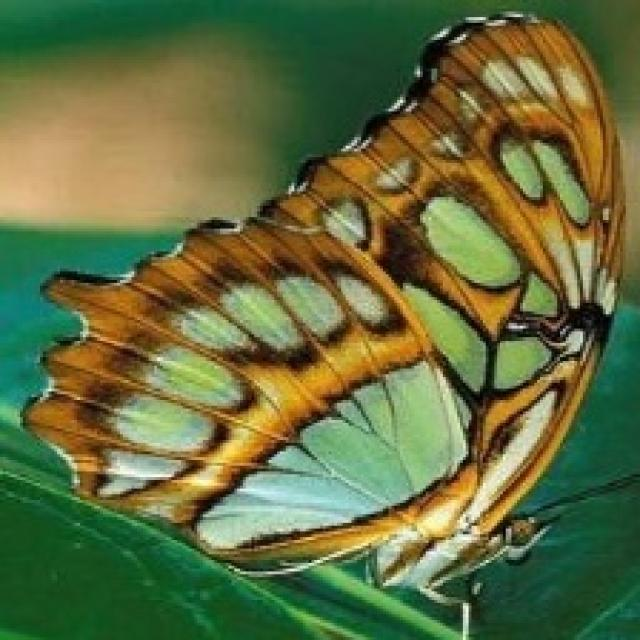butterfly: (17, 6, 637, 637)
